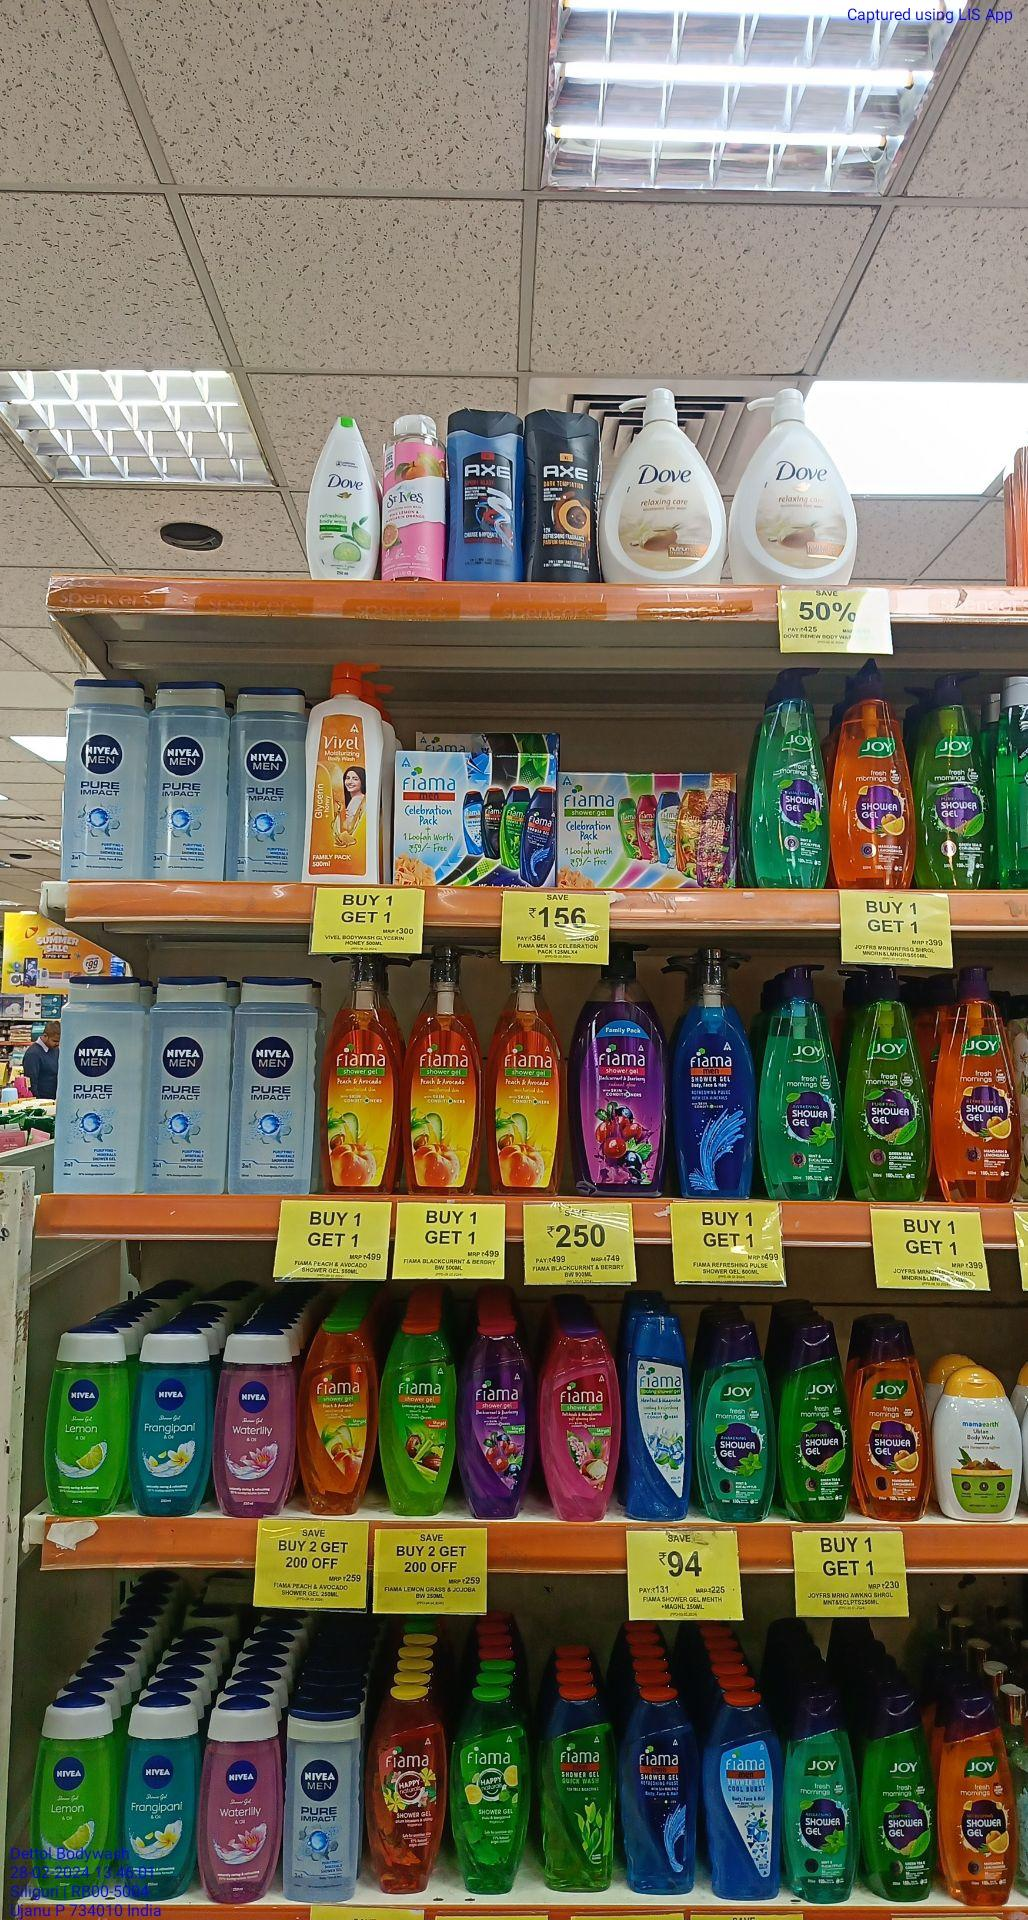Dove_Refreshing_Body_Wash_250ML: (315, 410, 381, 580)
Fiama_Shower_Gel_Lemongrass_and_Jojoba_250ML: (381, 1322, 456, 1516)
Fiama_Shower_Gel_Patchouli_and_Macadamia_250ML: (543, 1326, 622, 1524)
Fiama_Shower_Gel_Peach_and_Avocado_250ML: (301, 1319, 373, 1517)
Joy_Shower_Gel_Mandarin_and_Lemongrass_250ML: (943, 1694, 1022, 1920), (853, 1318, 932, 1524)
Joy_Shower_Gel_Mint_and_Eucalyptus_250ML: (783, 1679, 859, 1906), (697, 1323, 774, 1529)
Nivea_Shower_Gel_Frangipani_and_Oil_250ML: (119, 1694, 199, 1900), (133, 1326, 211, 1516)
Nivea_Shower_Gel_Lemon_and_Oil_250ML: (30, 1693, 117, 1903), (47, 1326, 121, 1520)
Nivea_Shower_Gel_Waterlily_and_Oil_250ML: (199, 1699, 282, 1907), (216, 1326, 292, 1523)
